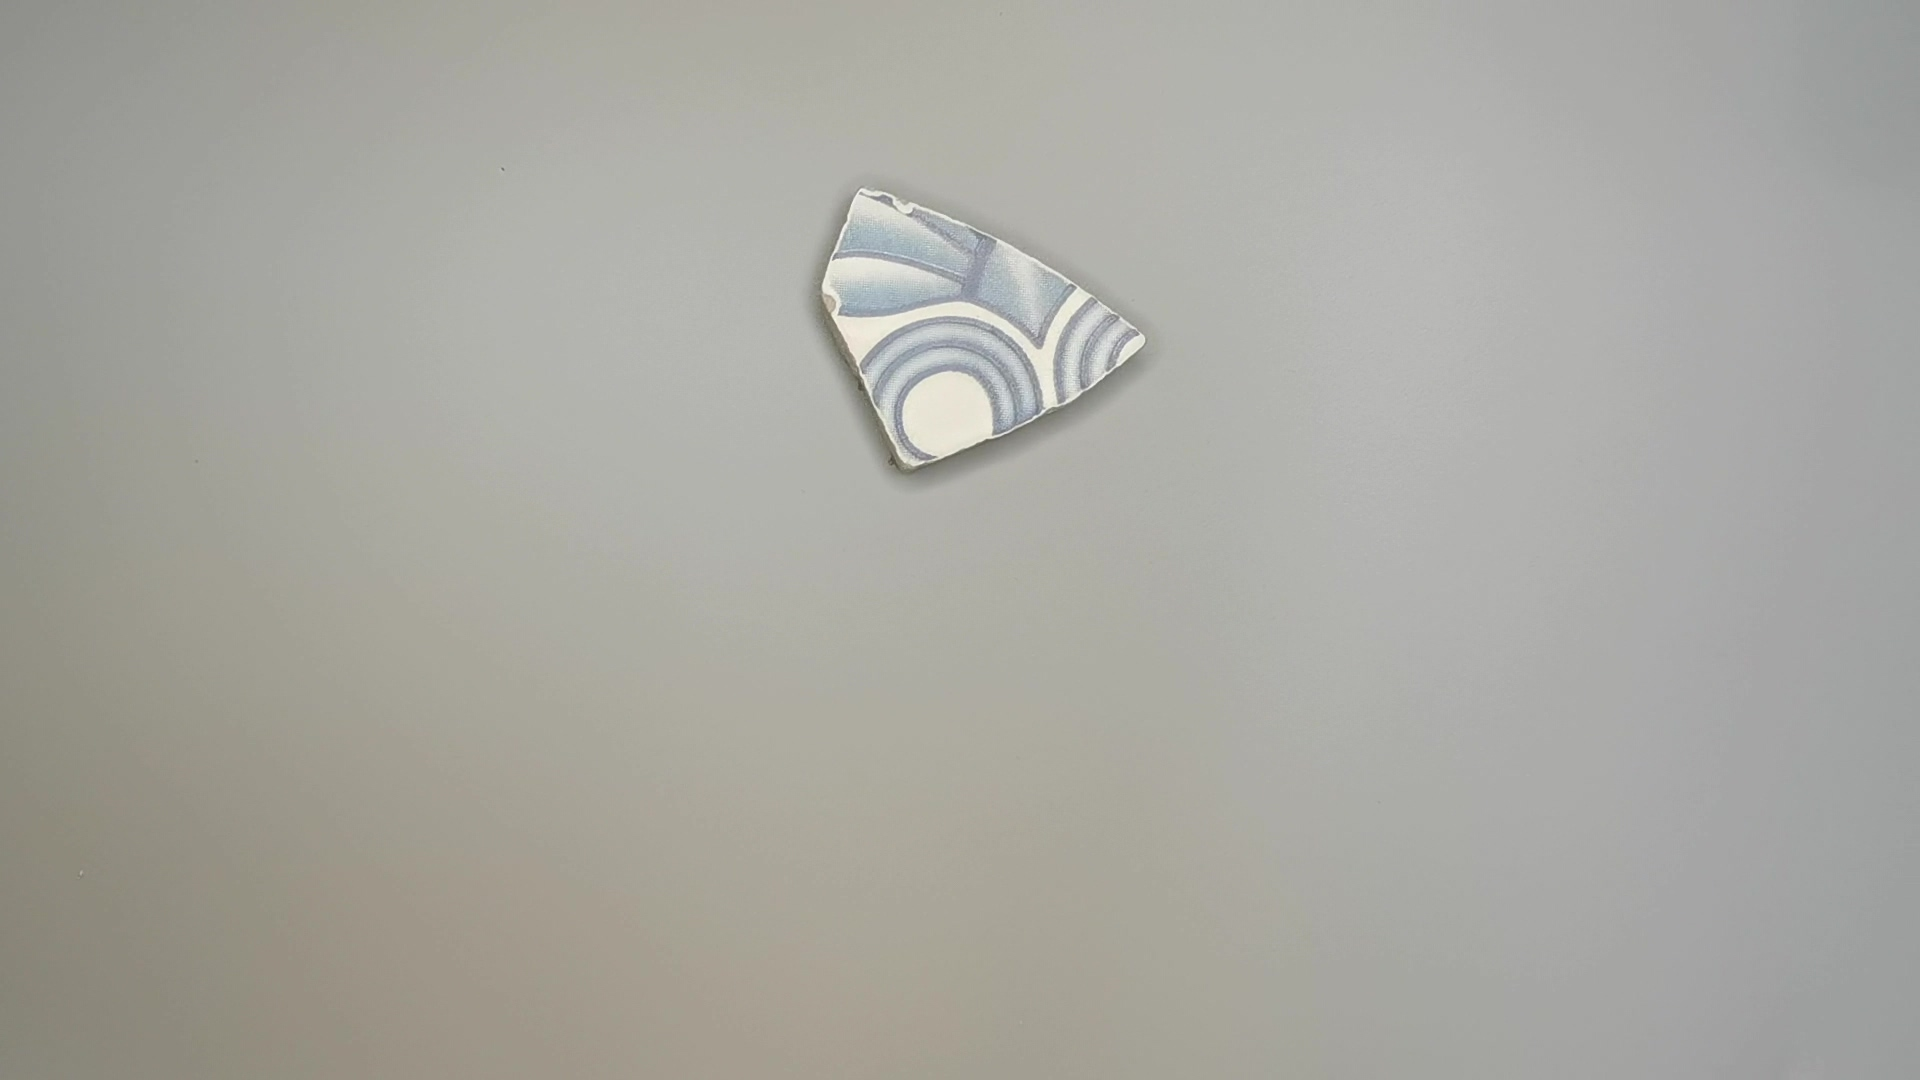ceramic: (807, 175, 1143, 483)
